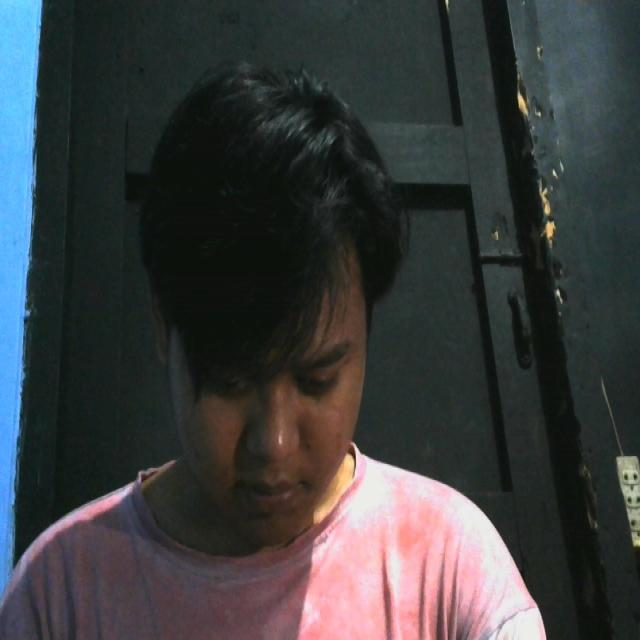9_cabeza_baja: (140, 85, 404, 539)
